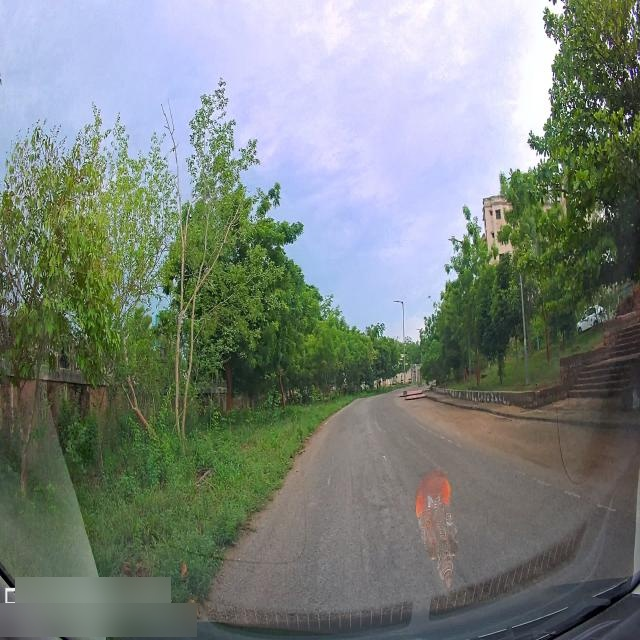pothole: (378, 454, 399, 486), (376, 503, 393, 522)
